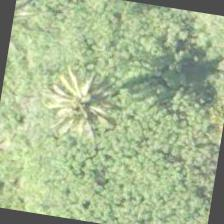Kelapa_Sawit: (41, 57, 144, 160)
